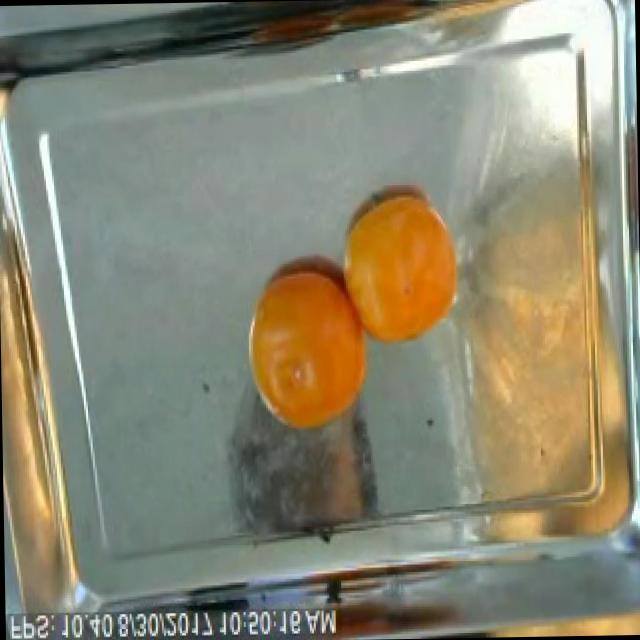Fruit: (446, 317, 608, 528), (233, 252, 386, 446), (328, 166, 468, 364)
